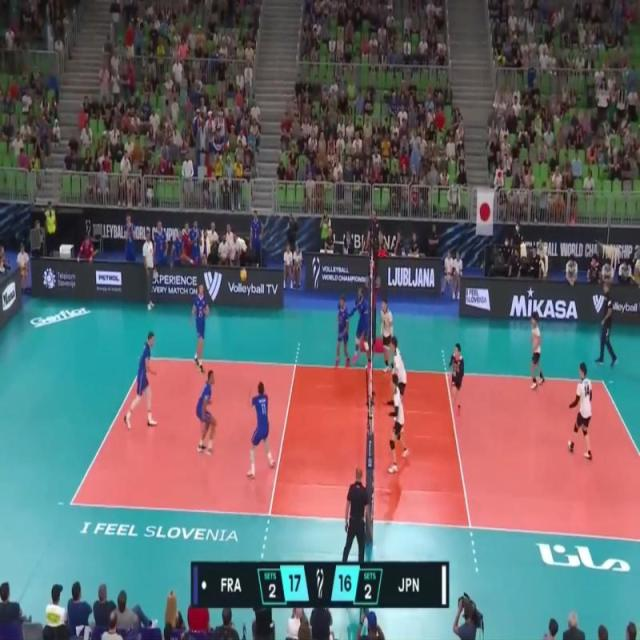volleyball: (239, 269, 248, 283)
